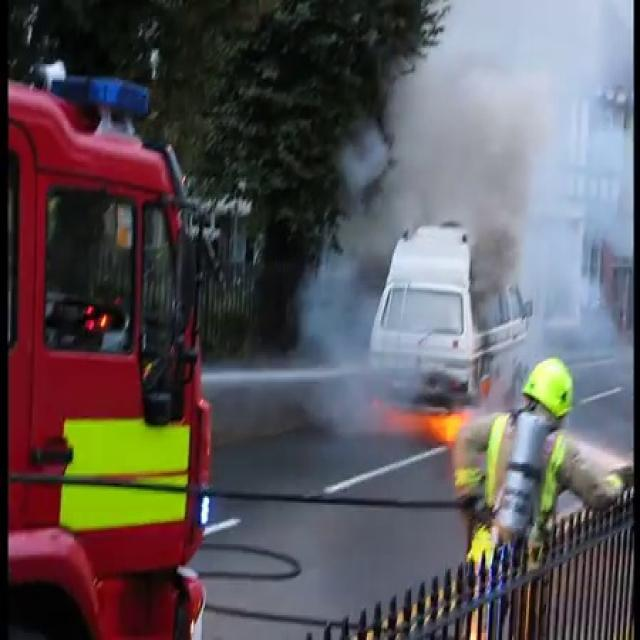Smoke: (302, 0, 634, 436)
